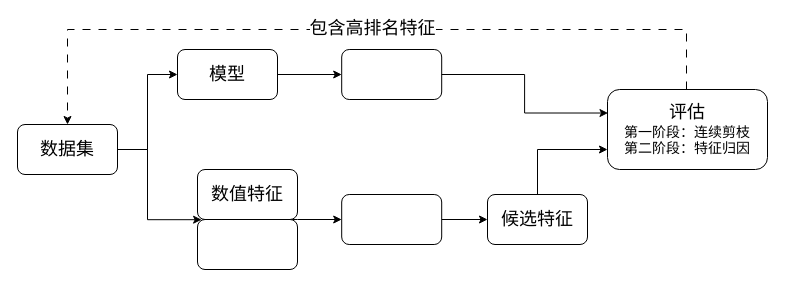
Some shapes in this 785 by 287 pixel diagram are drawn without their labels. The box of each missing label's shape, as (x1, y1, x2, y2) in pixels:
操作符: (341, 194, 442, 244)
类别特征: (196, 218, 298, 270)
预测结果: (341, 48, 442, 100)
